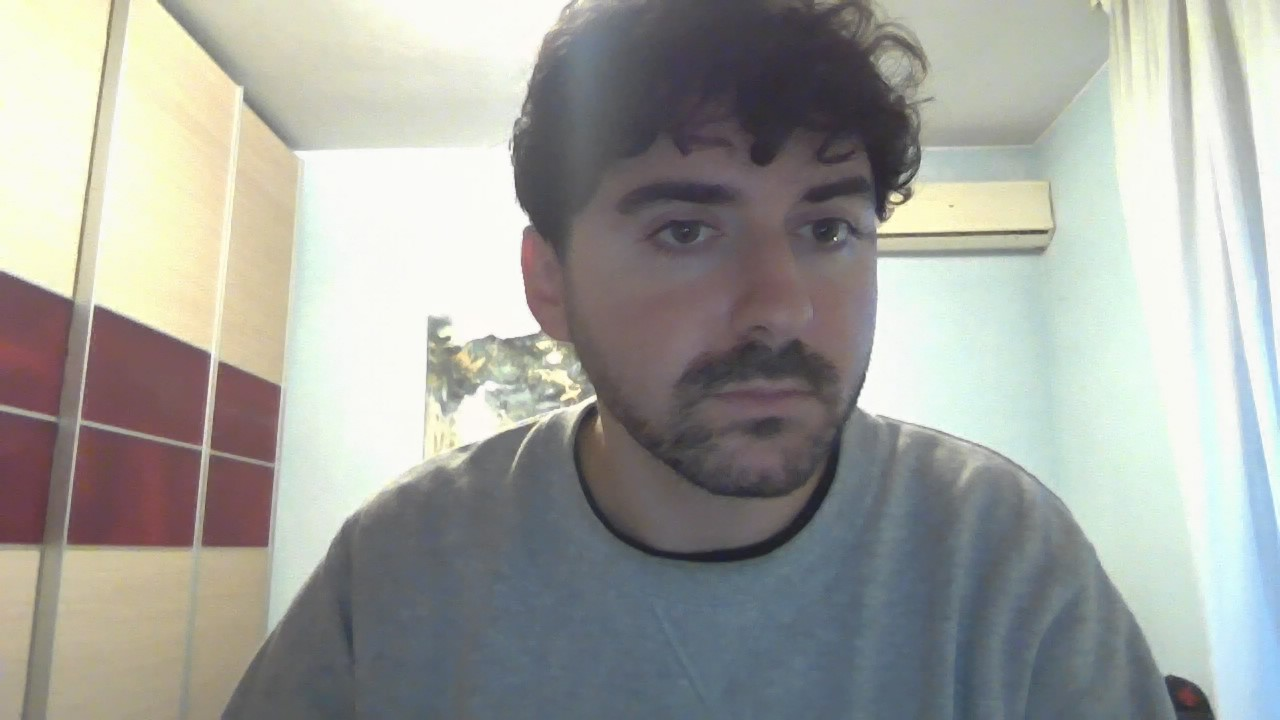NoGlasses: (527, 163, 904, 272)
